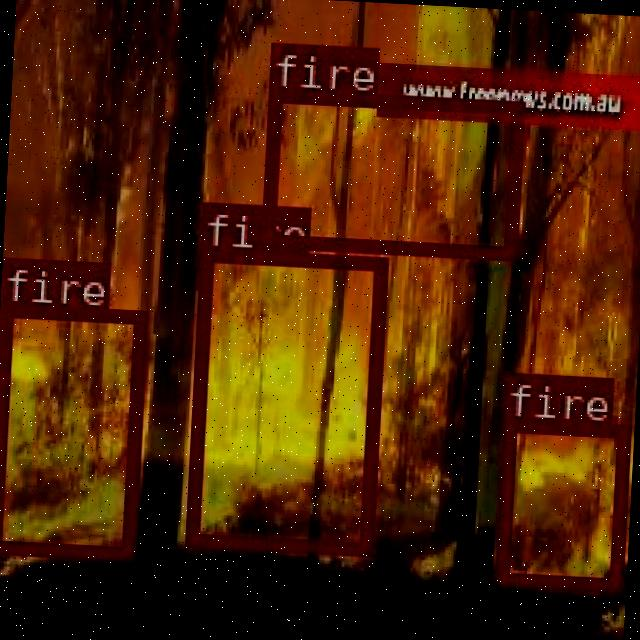fire: (184, 245, 386, 552), (260, 85, 522, 258), (0, 303, 146, 556), (494, 416, 630, 590)
